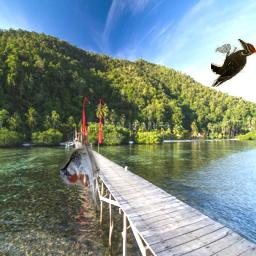Sparrow: (60, 135, 100, 211)
Woodpecker: (211, 39, 256, 87)
